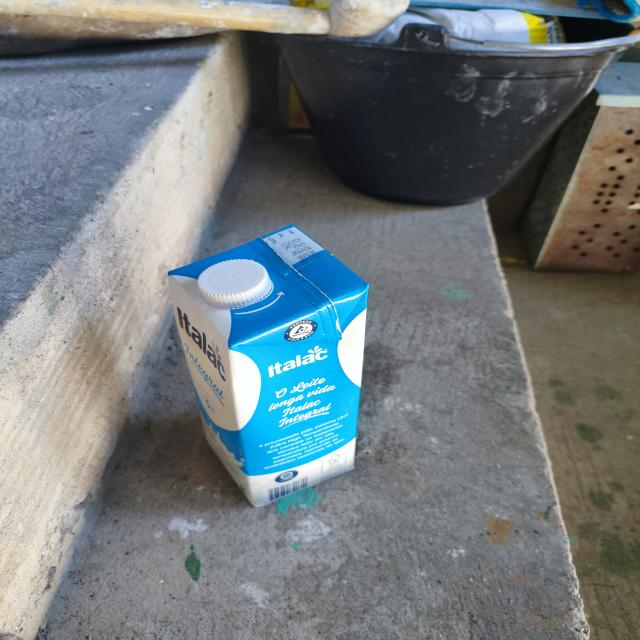Caixa de Leite: (157, 223, 373, 508)
